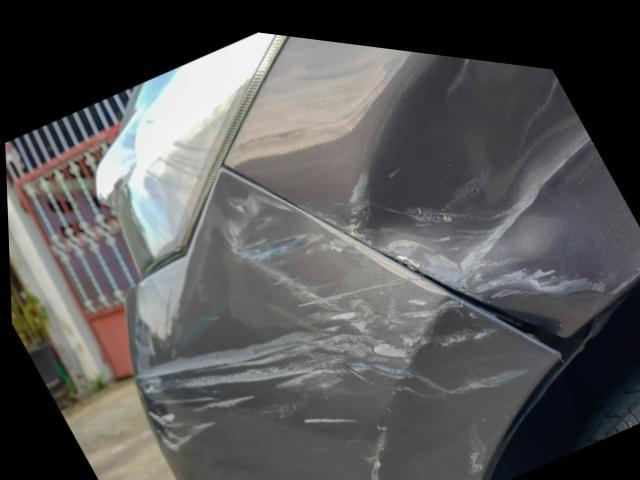dent: (358, 43, 640, 274)
scratch: (125, 174, 530, 480)
